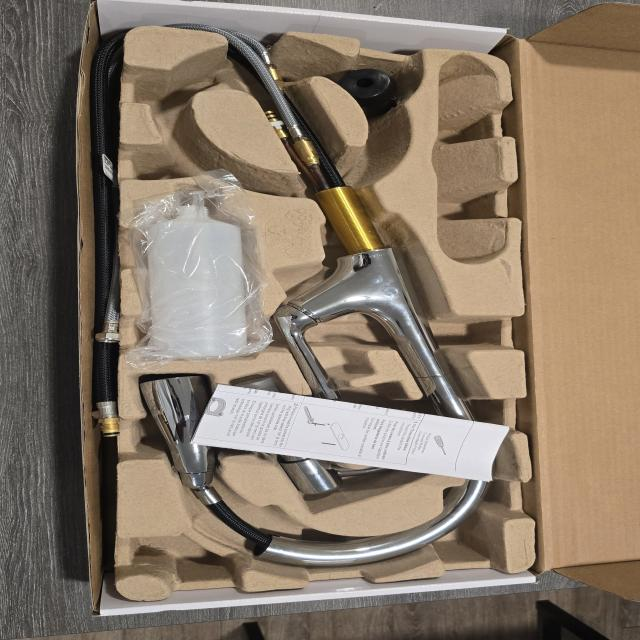1o: (139, 34, 492, 566)
2o: (235, 378, 417, 493)
3: (142, 192, 248, 359)
4m: (432, 55, 506, 265)
5: (340, 68, 402, 117)
6m: (133, 59, 220, 120)
7m: (137, 123, 264, 185)
8: (189, 384, 510, 483)
